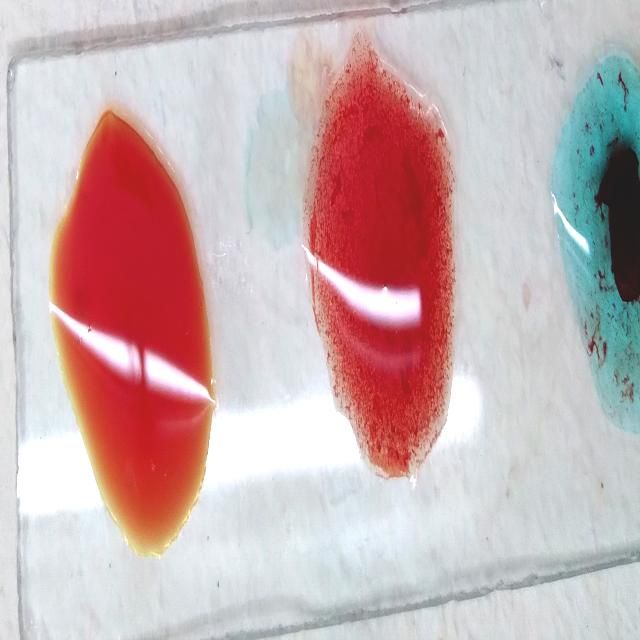A: (561, 53, 640, 424)
D: (318, 54, 458, 477)
